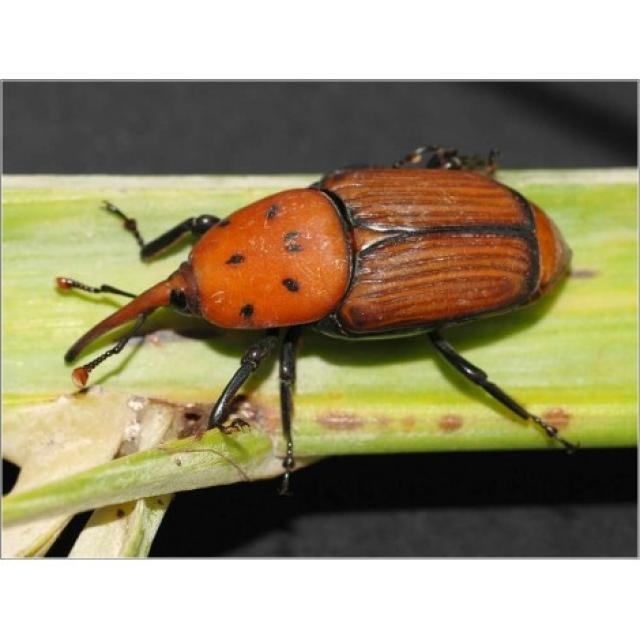Red-palm-weevil: (50, 164, 572, 390)
